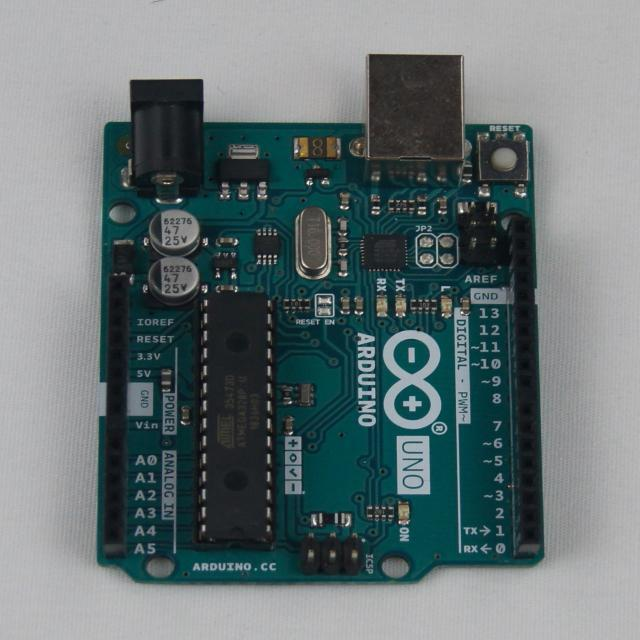Arduino Uno -Green-: (99, 55, 544, 584)
